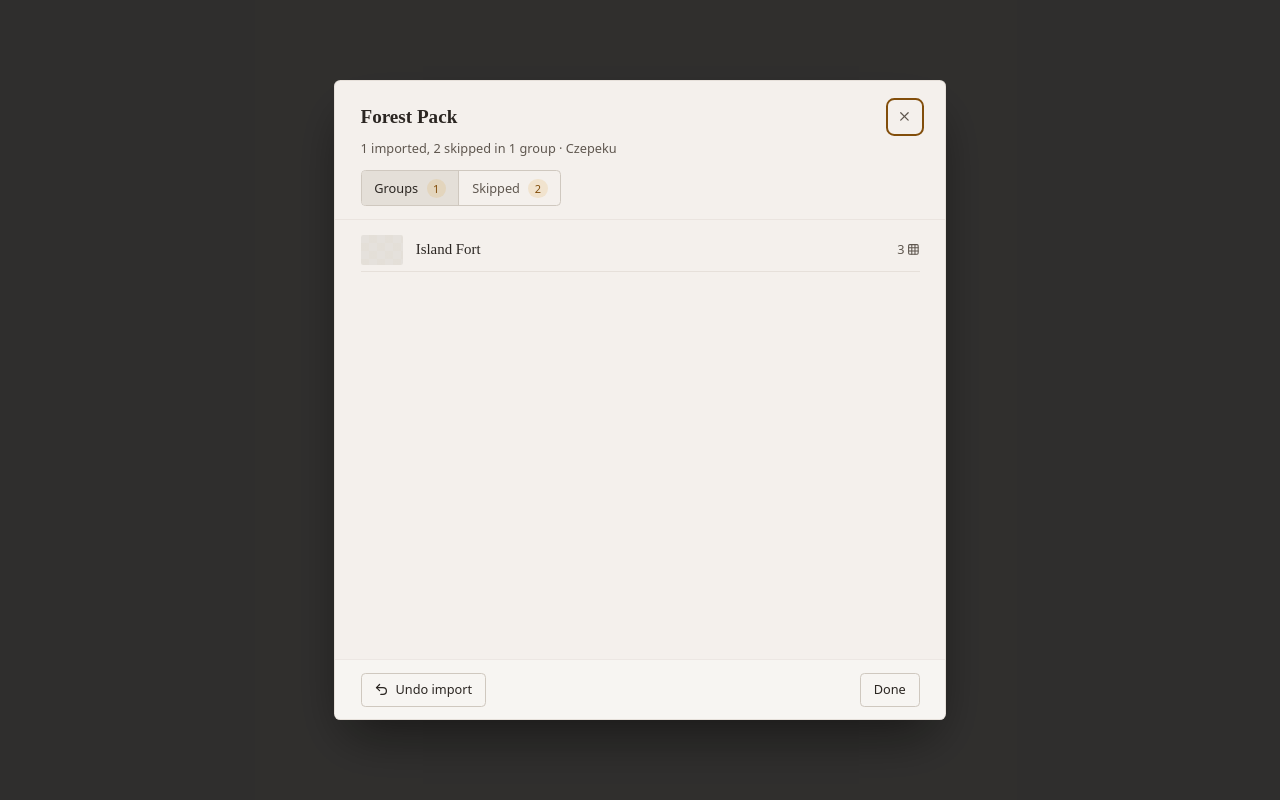
Test case: ImportDialog: result, skipped by Auto › offers no Include and no preview once they have expired
The image size is (1280, 800).
Click the tab "Skipped 2" at [510, 188], box [459,171,560,205]
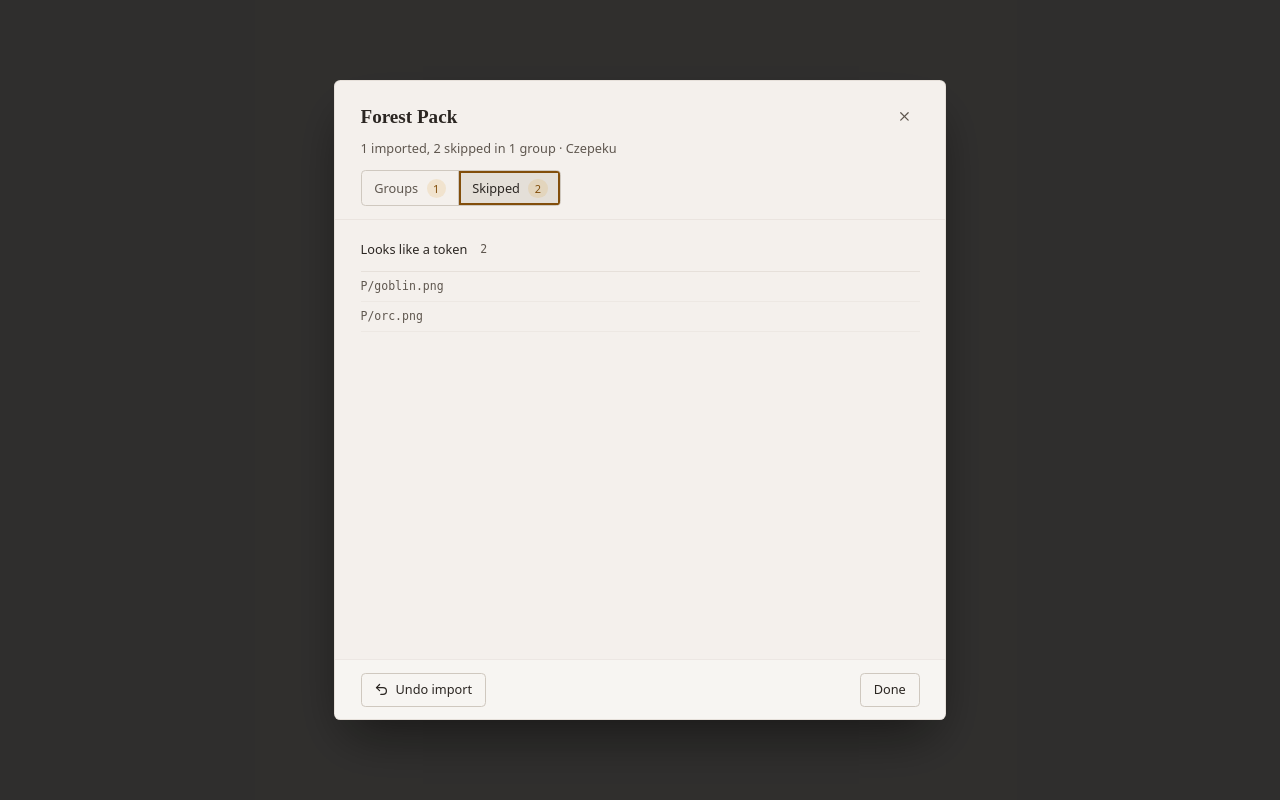
Expected: the text "P/goblin.png" is shown, [360,278,444,295]
Expected: the text "Looks like a token" is shown, [360,241,467,258]
